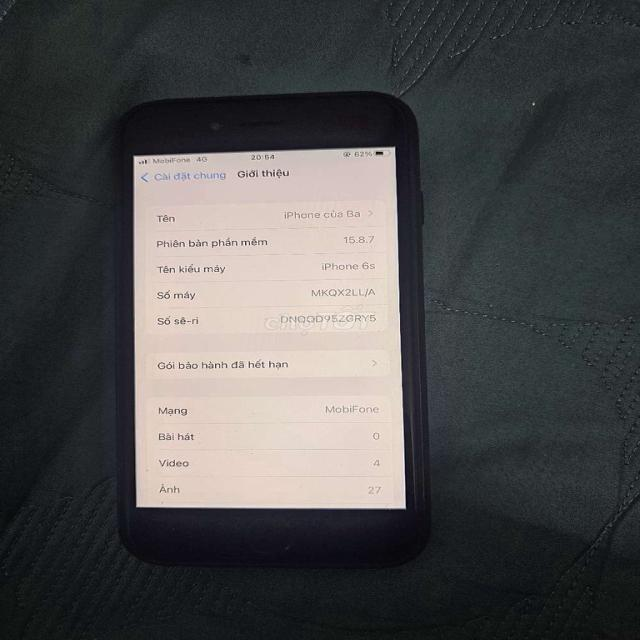gen_6: (114, 84, 442, 573)
